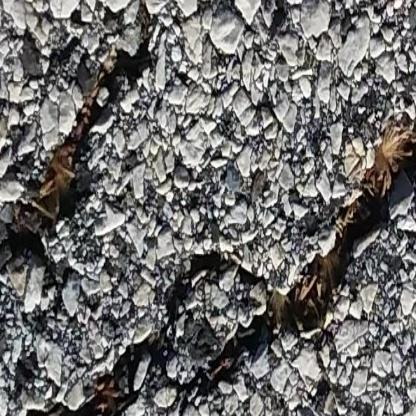Cracks: (0, 83, 416, 416), (0, 0, 168, 301)
